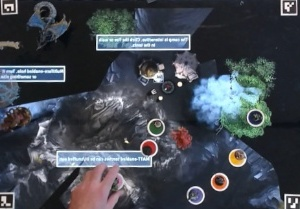green: (144, 116, 167, 136)
orange: (211, 170, 229, 191)
pink: (103, 170, 127, 192)
red: (139, 138, 159, 157)
violet: (186, 183, 206, 206), (247, 107, 267, 126)
yellow: (228, 147, 248, 167)
